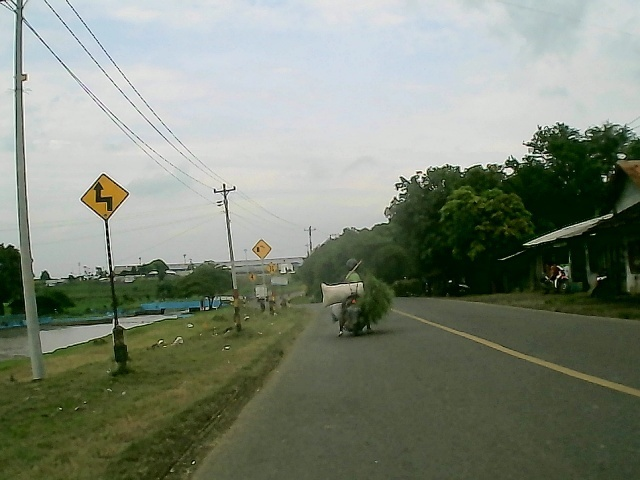Peringatan tepi air: (251, 238, 273, 261)
Tikungan garda pertama kiri: (73, 169, 132, 221)
